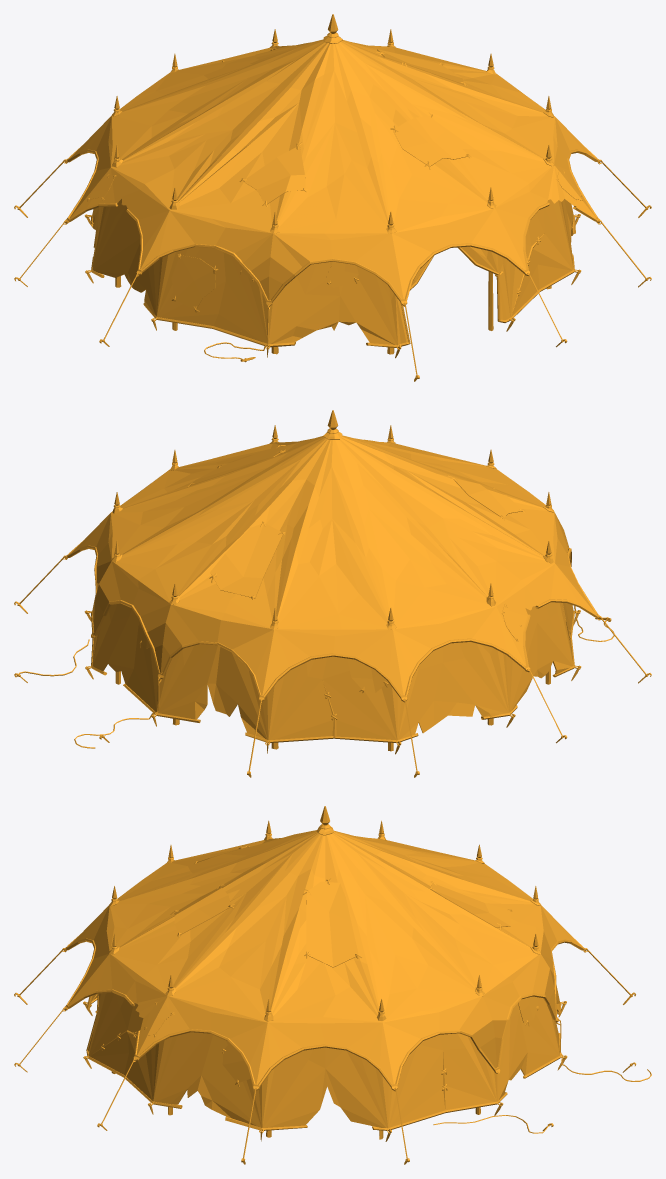
Rendered from SM_Tent_Dodecagon_Plain_Repaired_Fantasy.fbx.
The picture shows the model from 3 angles, top to bottom: view 1: azimuth 30°, elevation 25°; view 2: azimuth 150°, elevation 25°; view 3: azimuth 270°, elevation 25°; orthographic projection. The views are drawn at different scales.
Parts seen in each view (by area): view 1: tent-dodecagon-plain-repaired-fantasy; view 2: tent-dodecagon-plain-repaired-fantasy; view 3: tent-dodecagon-plain-repaired-fantasy.
Part boxes in pixels (x1=…): tent-dodecagon-plain-repaired-fantasy: x1=14, y1=14, x2=651, y2=381; tent-dodecagon-plain-repaired-fantasy: x1=14, y1=410, x2=651, y2=777; tent-dodecagon-plain-repaired-fantasy: x1=14, y1=806, x2=651, y2=1164.
Bounding box in the file's own units: 13.89 × 6 × 14.23.
